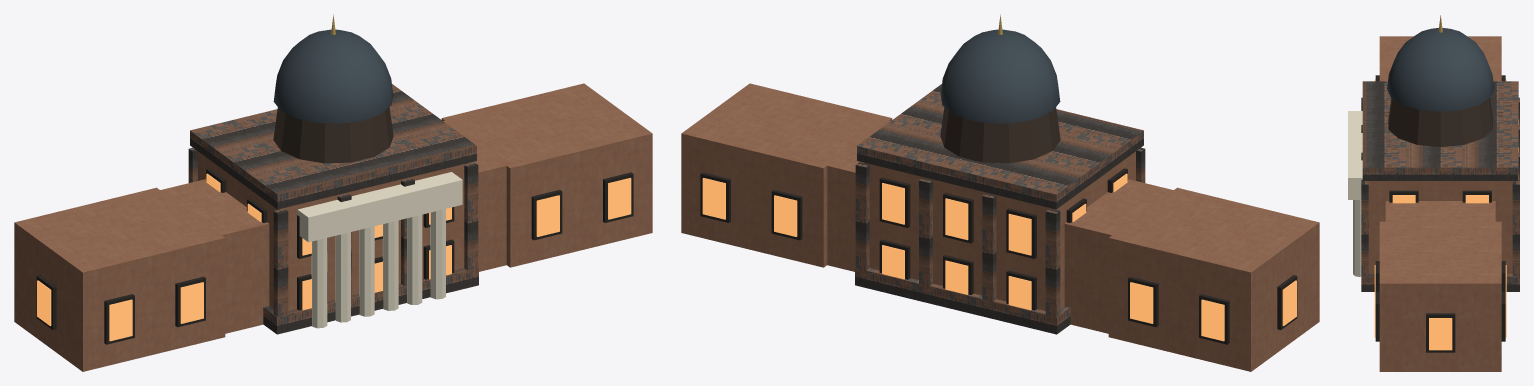
File: tauride.glb
3 views of the same model, side by side, from view 1: azimuth 30°, elevation 25°; view 2: azimuth 150°, elevation 25°; view 3: azimuth 270°, elevation 25° (orthographic). The views are drawn at different scales.
Visible parts, largest first — view 1: tauride; view 2: tauride; view 3: tauride.
Boxes of the visible parts, left/top/right/bottom form: tauride: left=14, top=14, right=652, bottom=371; tauride: left=681, top=14, right=1319, bottom=371; tauride: left=1348, top=15, right=1519, bottom=371.
Size of the model in its own units: 24.42 by 10.6 by 7.05.
Materials: 7 (2 with a texture image).
